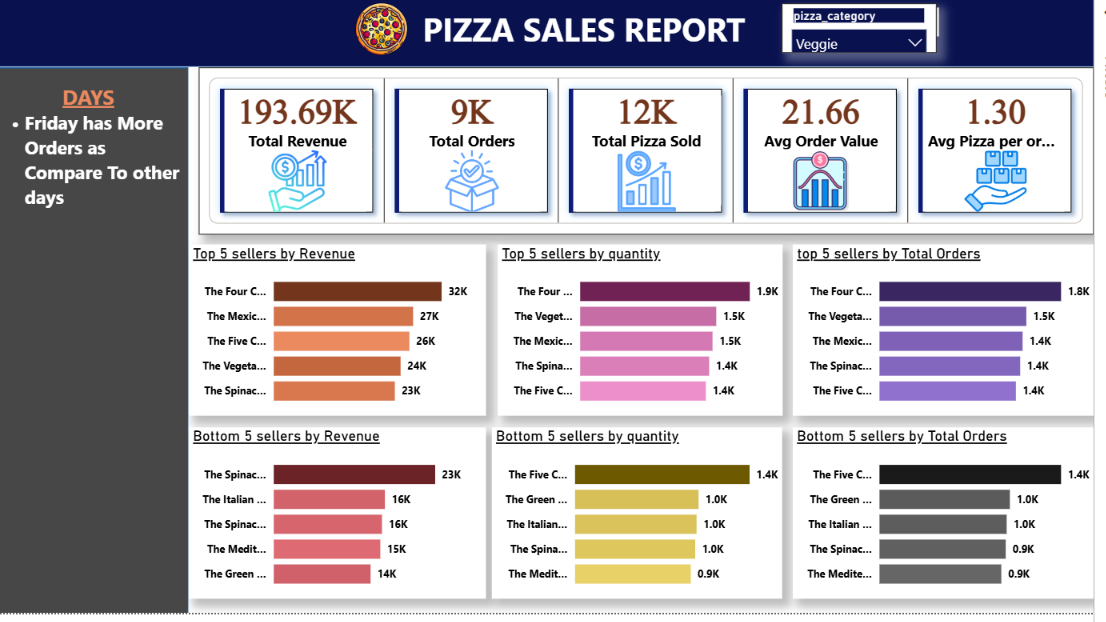

The page's visual inventory and layout, read from the dashboard file:
{"tool":"powerbi","page":{"name":"Page 2 ","canvas":[1280,720],"ordinal":1},"visuals":[{"type":"cardVisual","fields":{"Data":["pizza_sales.Total Revenue","pizza_sales.Total Orders","pizza_sales.Total Pizza Sold","pizza_sales.Avg Order Value","pizza_sales.Avg Pizza per order"]},"box":[239.7,84.4,1040.6,194.4],"z":0},{"type":"shape","box":[0,84.4,227.4,635.9],"z":1000},{"type":"shape","box":[0,0,1280.3,84.4],"z":2000},{"type":"textbox","box":[288.6,11,816.9,57.5],"z":3000},{"type":"image","box":[388.9,6.1,127.2,68.5],"z":4000},{"type":"textbox","box":[785.1,402.3,359.5,283.7],"z":5000},{"type":"textbox","box":[0,97.8,227.4,172.4],"z":6000},{"type":"barChart","title":"Top 5 sellers by Revenue ","fields":{"Category":["pizza_sales.pizza_name"],"Y":["pizza_sales.Total Revenue"]},"box":[227.5,290.8,346,199.2],"z":7000},{"type":"barChart","title":"Top 5 sellers by quantity","fields":{"Category":["pizza_sales.pizza_name"],"Y":["pizza_sales.Total Pizza Sold"]},"box":[587,290.8,331.2,199.2],"z":8000},{"type":"barChart","title":"top 5 sellers by Total Orders ","fields":{"Category":["pizza_sales.pizza_name"],"Y":["pizza_sales.Total Orders"]},"box":[930.3,290.8,350,199.2],"z":9000},{"type":"barChart","title":"Bottom 5 sellers by Revenue","fields":{"Category":["pizza_sales.pizza_name"],"Y":["pizza_sales.Total Revenue"]},"box":[227.5,503.5,346,199.2],"z":10000},{"type":"barChart","title":"Bottom 5 sellers by quantity","fields":{"Category":["pizza_sales.pizza_name"],"Y":["pizza_sales.Total Pizza Sold"]},"box":[580.2,503.5,337.9,199.2],"z":11000},{"type":"barChart","title":"Bottom 5 sellers by Total Orders","fields":{"Category":["pizza_sales.pizza_name"],"Y":["pizza_sales.Total Orders"]},"box":[930.3,503.5,350,199.2],"z":12000},{"type":"slicer","fields":{"Values":["pizza_sales.pizza_category"]},"box":[917.1,11,179.8,57.5],"z":13000}]}

Visuals, with their boxes in screenshot pixels (x1, y1, x2, y2), scaled from the page's 1280x720 canvas onto the 1106x622 screenshot:
cardVisual - pizza_sales.Total Revenue x pizza_sales.Total Orders: BBox(207, 73, 1105, 241)
shape: BBox(0, 73, 196, 621)
shape: BBox(0, 0, 1105, 73)
textbox: BBox(249, 10, 955, 59)
image: BBox(336, 5, 446, 64)
textbox: BBox(678, 348, 989, 593)
textbox: BBox(0, 84, 196, 233)
"Top 5 sellers by Revenue " barChart: BBox(197, 251, 496, 423)
"Top 5 sellers by quantity" barChart: BBox(507, 251, 793, 423)
"top 5 sellers by Total Orders " barChart: BBox(804, 251, 1105, 423)
"Bottom 5 sellers by Revenue" barChart: BBox(197, 435, 496, 607)
"Bottom 5 sellers by quantity" barChart: BBox(501, 435, 793, 607)
"Bottom 5 sellers by Total Orders" barChart: BBox(804, 435, 1105, 607)
slicer - pizza_sales.pizza_category: BBox(792, 10, 948, 59)
